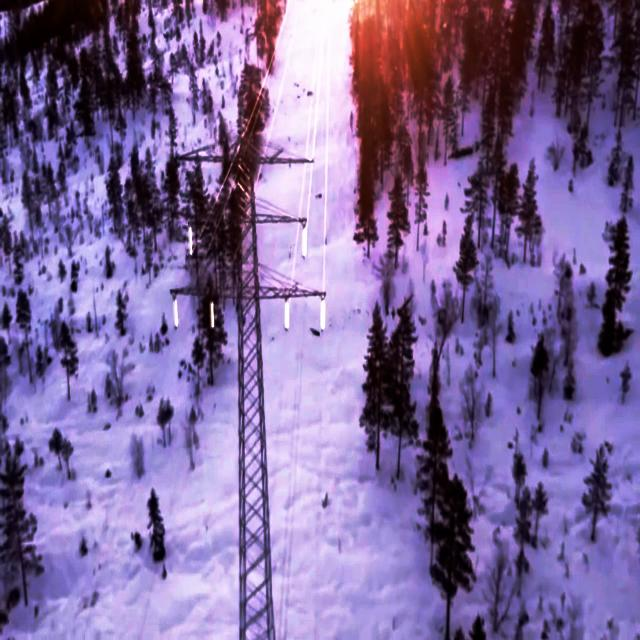poles: (168, 131, 324, 639)
wires: (306, 32, 324, 220), (322, 20, 331, 290), (321, 295, 326, 332)
